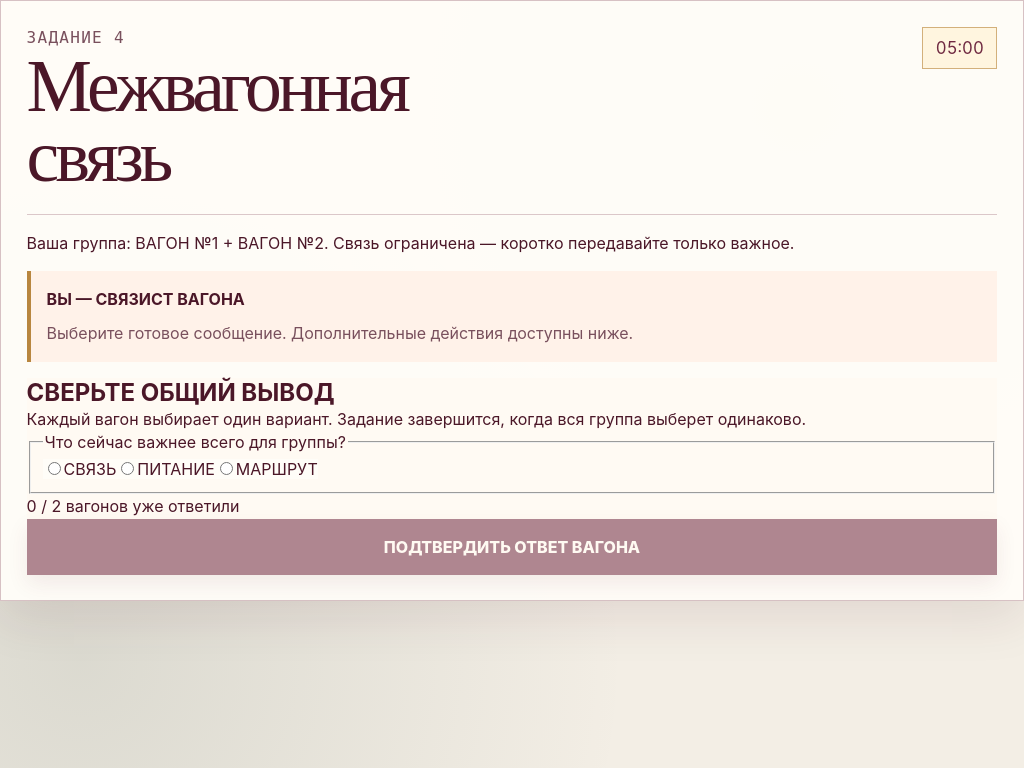
it: MissionFourPlayer › keeps the selected common answer and restores confirmation when sending is rejected
Click the radio button labelled "СВЯЗЬ" at (54, 469), box x1=48 y1=462 x2=61 y2=475
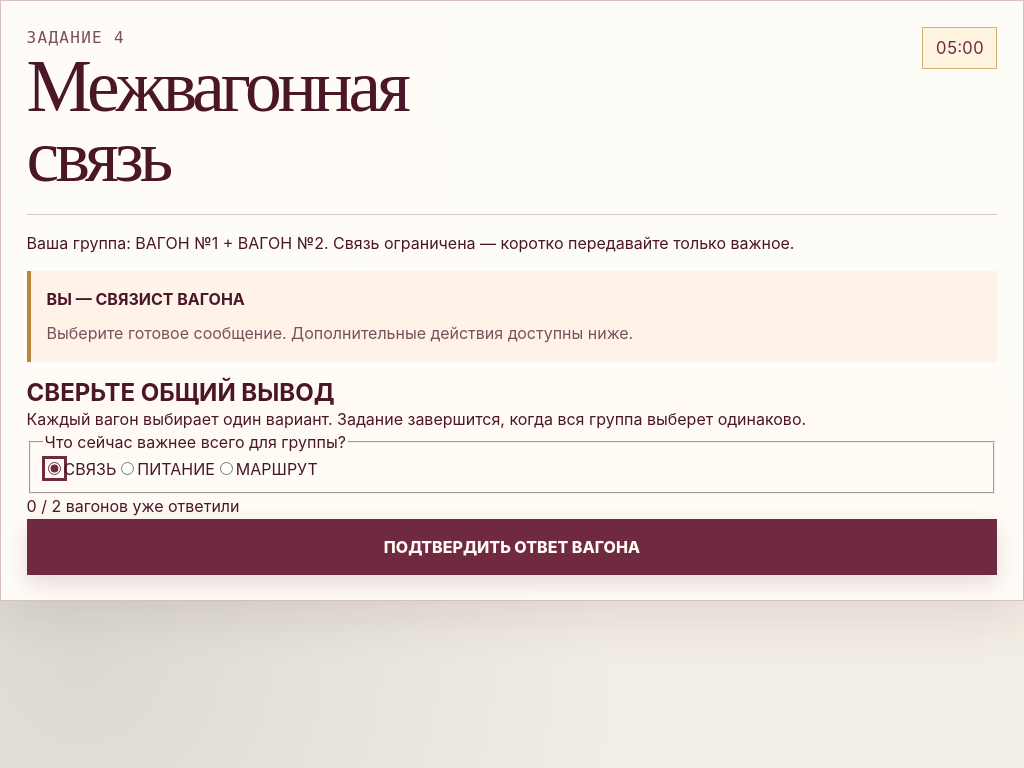
Click the button "ПОДТВЕРДИТЬ ОТВЕТ ВАГОНА" at (512, 547), box x1=27 y1=519 x2=997 y2=575
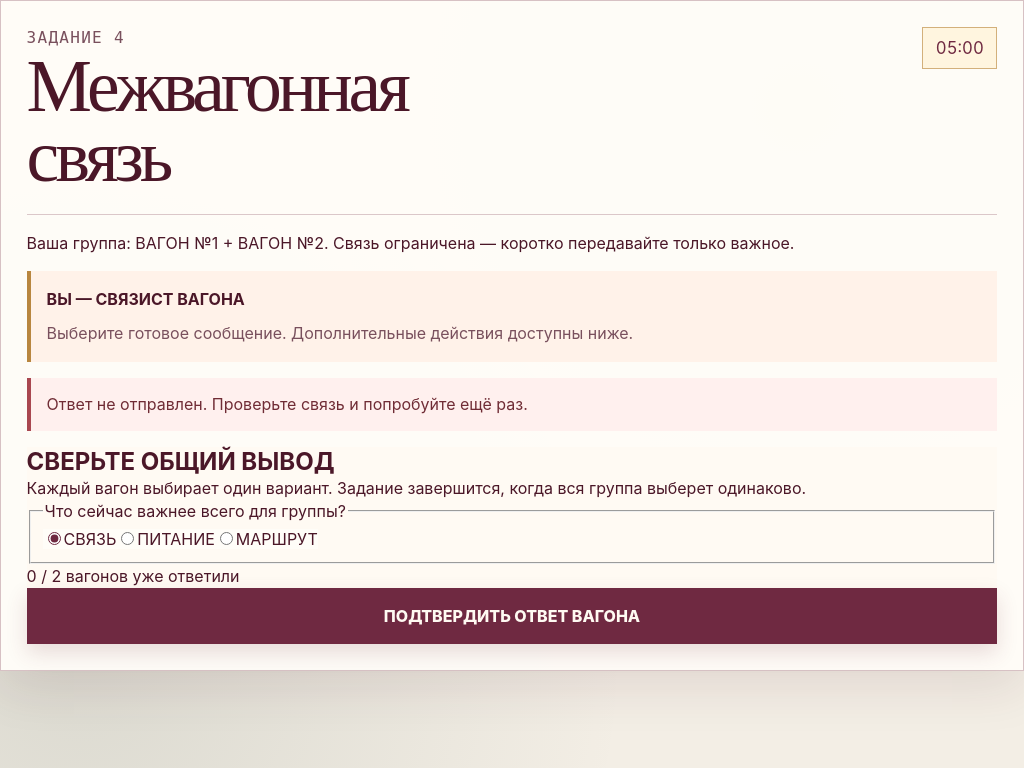
Now the radio button labelled "СВЯЗЬ" is checked, box x1=48 y1=532 x2=61 y2=545
Now the button "ПОДТВЕРДИТЬ ОТВЕТ ВАГОНА" is enabled, box x1=27 y1=588 x2=997 y2=644
Now the message "Ответ не отправлен. Проверьте связь и попробуйте ещё раз." is shown, box x1=27 y1=378 x2=997 y2=431
